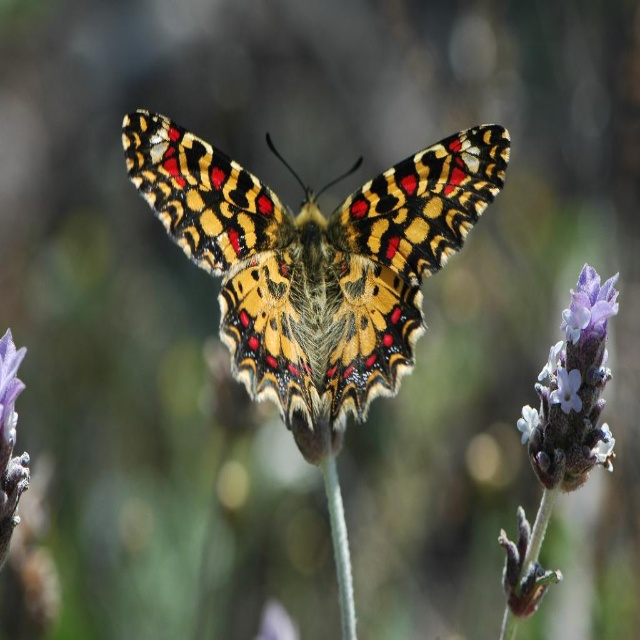Butterfly: (137, 98, 512, 449)
